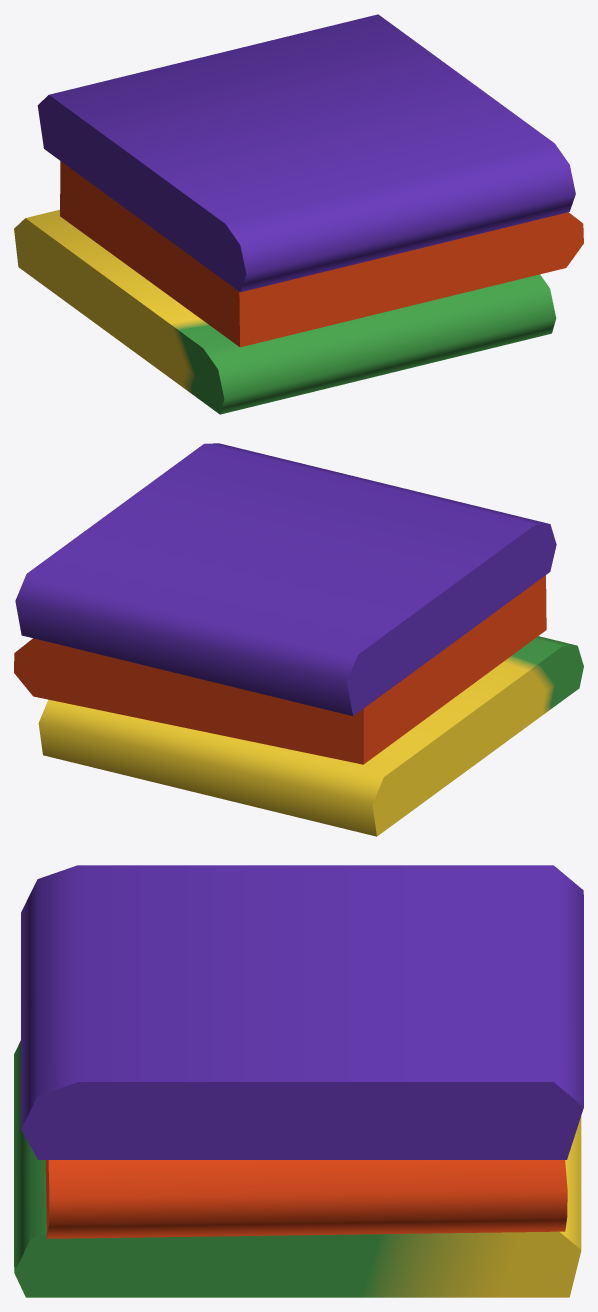
The model's file is shop_045.fbx.
The picture shows the model from 3 angles, top to bottom: view 1: azimuth 30°, elevation 25°; view 2: azimuth 150°, elevation 25°; view 3: azimuth 270°, elevation 25°; orthographic projection. The views are drawn at different scales.
Parts seen in each view (by area): view 1: shop_045; view 2: shop_045; view 3: shop_045.
Boxes of the visible parts, bbox=[...] form: shop_045: bbox=[14, 14, 583, 414]; shop_045: bbox=[14, 443, 583, 836]; shop_045: bbox=[14, 865, 583, 1297].
Bounding box in the file's own units: 41.03 × 40.3 × 17.96.
